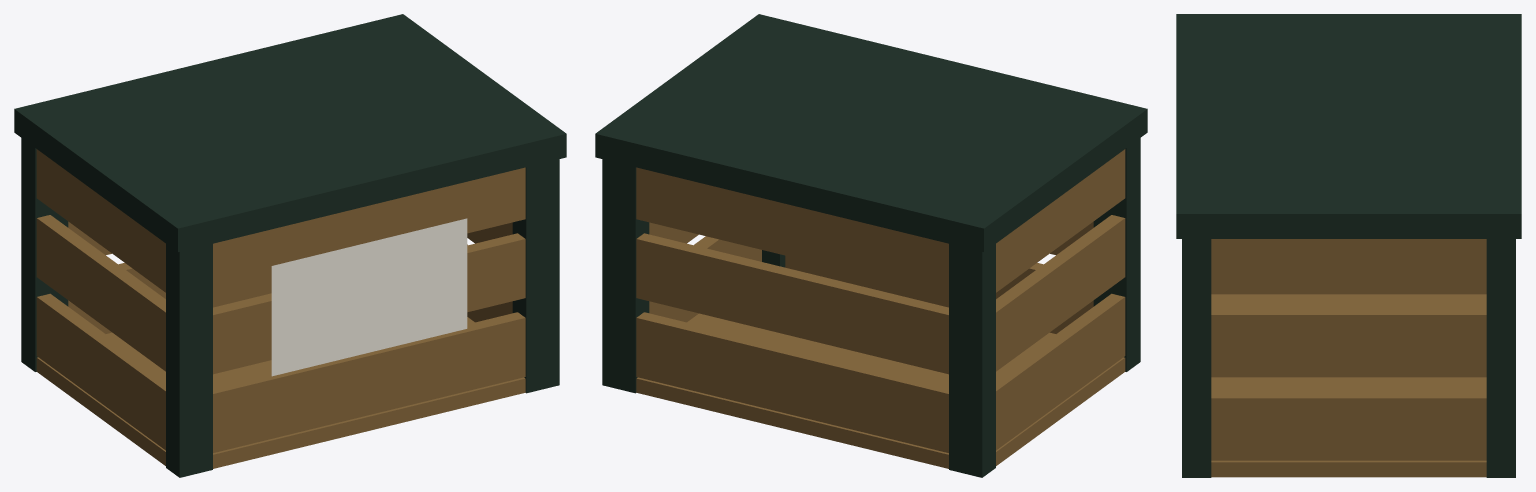
Rendered from wooden-crate.glb.
3 views of the same model, side by side, from view 1: azimuth 30°, elevation 25°; view 2: azimuth 150°, elevation 25°; view 3: azimuth 270°, elevation 25° (orthographic). The views are drawn at different scales.
Parts seen in each view (by area): view 1: rim, crate_stencil_slot, slat_front_1, slat_front_3, corner_post_fl, slat_left_1, slat_left_2, corner_post_fr, floor_boards, slat_front_2, slat_left_3, corner_post_bl (+1 smaller); view 2: rim, slat_back_1, slat_back_2, slat_back_3, corner_post_bl, floor_boards, slat_left_1, slat_left_2, corner_post_br, slat_left_3, corner_post_fl, slat_front_1 (+2 smaller); view 3: rim, slat_right_1, slat_right_2, slat_right_3, floor_boards, corner_post_fr, corner_post_br.
Part boxes in pixels (left/top/right/bottom): rim: left=14, top=14, right=566, bottom=251; crate_stencil_slot: left=271, top=218, right=467, bottom=376; slat_front_1: left=213, top=312, right=525, bottom=452; slat_front_3: left=213, top=167, right=525, bottom=295; corner_post_fl: left=166, top=207, right=212, bottom=477; slat_left_1: left=36, top=293, right=165, bottom=450; slat_left_2: left=36, top=215, right=165, bottom=371; corner_post_fr: left=512, top=123, right=559, bottom=393; floor_boards: left=36, top=317, right=525, bottom=468; slat_front_2: left=213, top=233, right=525, bottom=374; slat_left_3: left=36, top=149, right=165, bottom=292; corner_post_bl: left=21, top=101, right=68, bottom=371; rim: left=595, top=14, right=1147, bottom=251; slat_back_1: left=636, top=312, right=948, bottom=452; slat_back_2: left=636, top=233, right=948, bottom=374; slat_back_3: left=636, top=167, right=948, bottom=295; corner_post_bl: left=949, top=207, right=995, bottom=477; floor_boards: left=636, top=313, right=1125, bottom=468; slat_left_1: left=996, top=293, right=1125, bottom=450; slat_left_2: left=996, top=215, right=1125, bottom=371; corner_post_br: left=602, top=123, right=649, bottom=393; slat_left_3: left=996, top=149, right=1125, bottom=292; corner_post_fl: left=1093, top=101, right=1140, bottom=371; slat_front_1: left=785, top=255, right=1093, bottom=333; rim: left=1176, top=14, right=1521, bottom=238; slat_right_1: left=1211, top=391, right=1486, bottom=460; slat_right_2: left=1211, top=308, right=1486, bottom=377; slat_right_3: left=1211, top=239, right=1486, bottom=294; floor_boards: left=1211, top=294, right=1486, bottom=477; corner_post_fr: left=1182, top=195, right=1211, bottom=477; corner_post_br: left=1486, top=195, right=1515, bottom=477.
Size of the model in its own units: 0.516 by 0.32 by 0.376.
